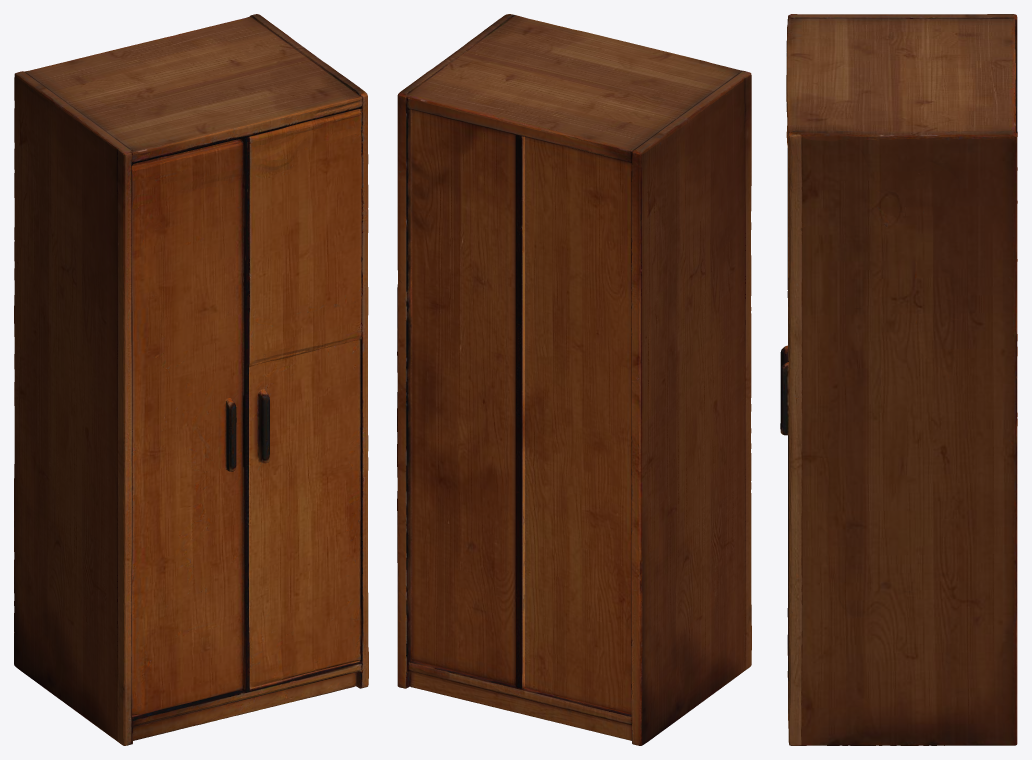
The model's file is wardrobe.glb.
The picture shows the model from 3 angles, left to right: view 1: azimuth 30°, elevation 25°; view 2: azimuth 150°, elevation 25°; view 3: azimuth 270°, elevation 25°; orthographic projection. The views are drawn at different scales.
Visible parts, largest first — view 1: world; view 2: world; view 3: world.
Boxes of the visible parts, x1=… form: world: x1=14, y1=14, x2=368, y2=745; world: x1=397, y1=14, x2=751, y2=745; world: x1=780, y1=14, x2=1017, y2=745.
Size of the model in its own units: 0.8609 by 1.99 by 0.6989.
Materials: 1 (1 with a texture image).
